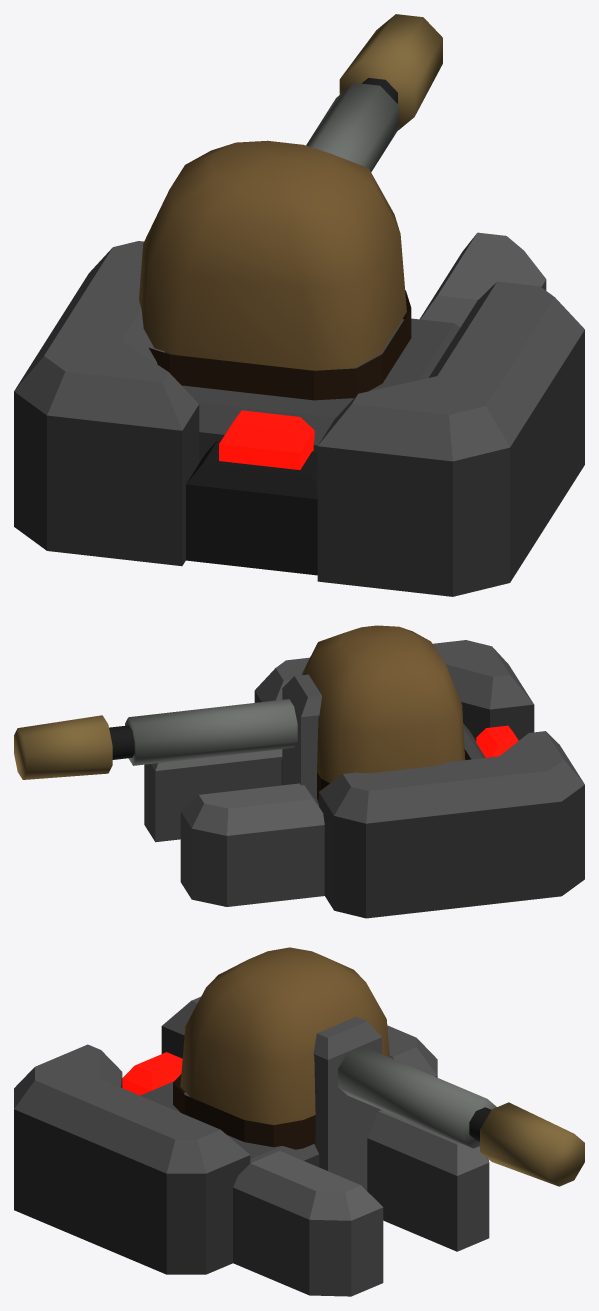
Rendered from newshp-13-f3.glb.
The picture shows the model from 3 angles, top to bottom: view 1: azimuth 30°, elevation 25°; view 2: azimuth 150°, elevation 25°; view 3: azimuth 270°, elevation 25°; orthographic projection. The views are drawn at different scales.
Parts seen in each view (by area): view 1: newshp-13-f3; view 2: newshp-13-f3; view 3: newshp-13-f3.
Boxes of the visible parts, <box> form: newshp-13-f3: <box>14,14,584,596</box>; newshp-13-f3: <box>14,625,584,918</box>; newshp-13-f3: <box>14,947,584,1296</box>.
Size of the model in its own units: 1.25 by 0.6 by 1.37.
